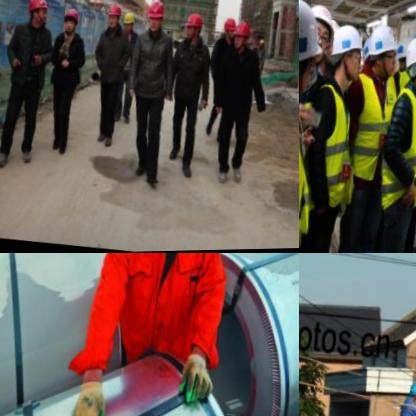helmet: (325, 22, 366, 88), (360, 24, 401, 86), (299, 0, 324, 98), (306, 1, 338, 59), (138, 0, 165, 36), (402, 29, 416, 94), (178, 12, 205, 42), (58, 8, 83, 35), (23, 0, 48, 26), (104, 2, 123, 31), (230, 22, 250, 48), (218, 17, 237, 41), (117, 11, 134, 34), (403, 380, 416, 408)
